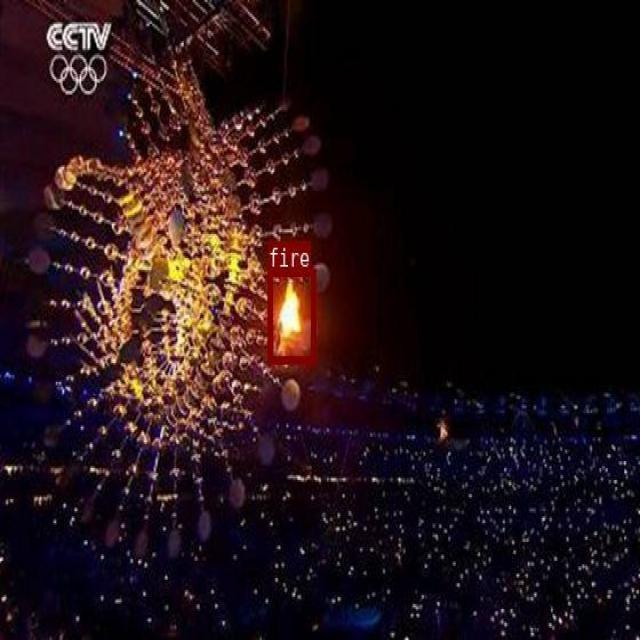fire: (267, 268, 315, 362)
